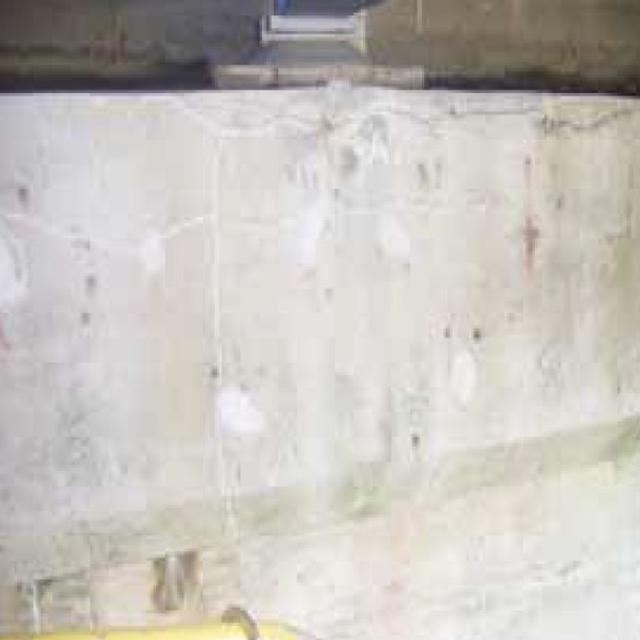crack: (12, 190, 192, 266), (199, 156, 237, 484)
